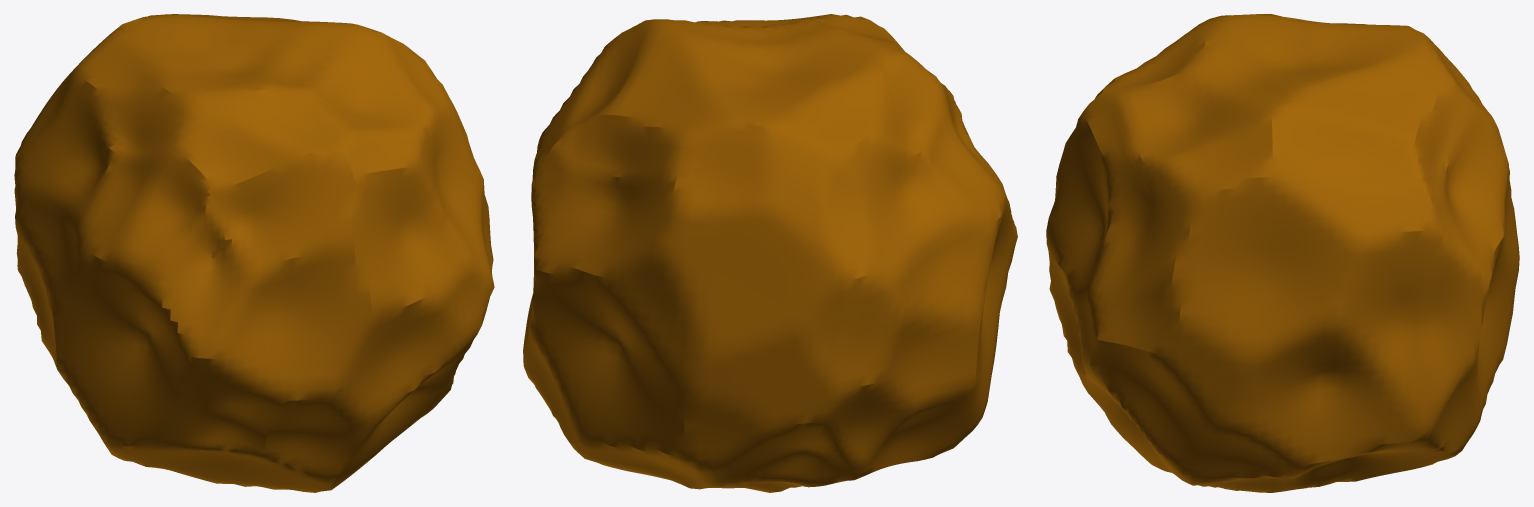
Rendered from SINGLE ROCK.fbx.
3 views of the same model, side by side, from view 1: azimuth 30°, elevation 25°; view 2: azimuth 150°, elevation 25°; view 3: azimuth 270°, elevation 25° (orthographic). The views are drawn at different scales.
Visible parts, largest first — view 1: Cube; view 2: Cube; view 3: Cube.
Part boxes in pixels (x1,y1,x2,y2): Cube: [14, 14, 494, 492]; Cube: [523, 14, 1017, 492]; Cube: [1046, 14, 1519, 492].
Size of the model in its own units: 167 by 162 by 170.
